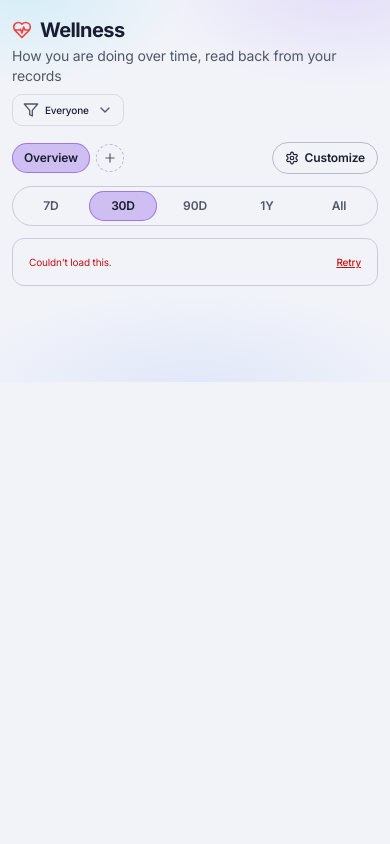
Test: a failed request is not an empty account › the tracker list failing is an error with a retry, and no card claims nothing was recorded
Expected: the element with test id "wellness-load-error" is shown, 12,238 -> 378,286
Click the button "Retry".
click(349, 262)  # box 336,255 -> 361,269
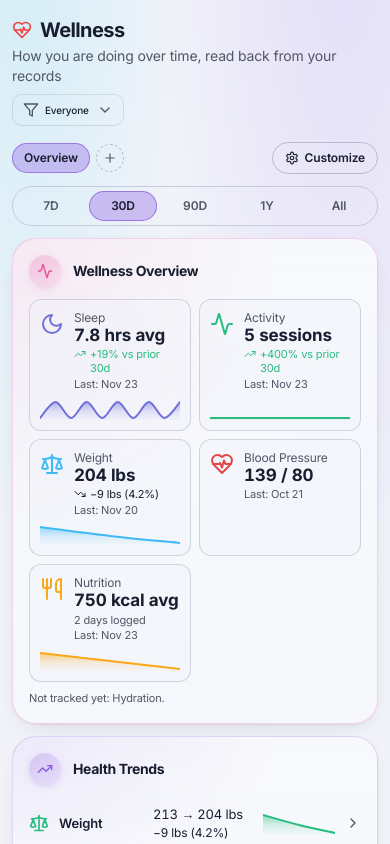
Result: the text "7.8 hrs avg" is shown at 74,325 -> 180,346
